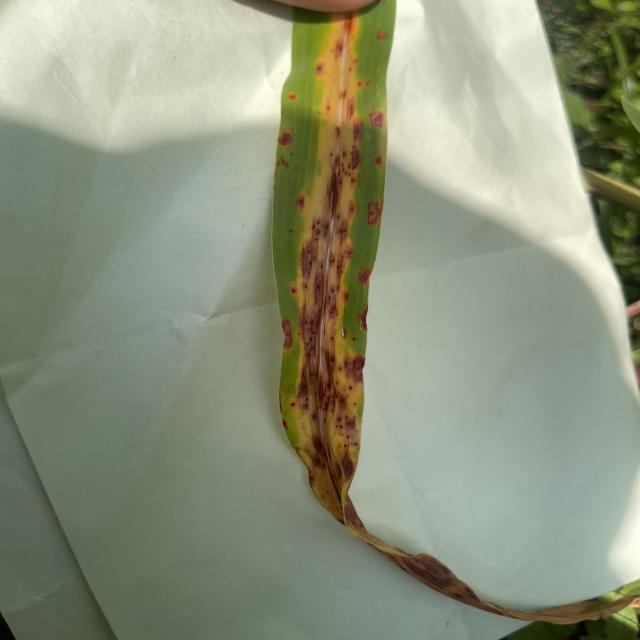millet_rust: (272, 0, 621, 624)
